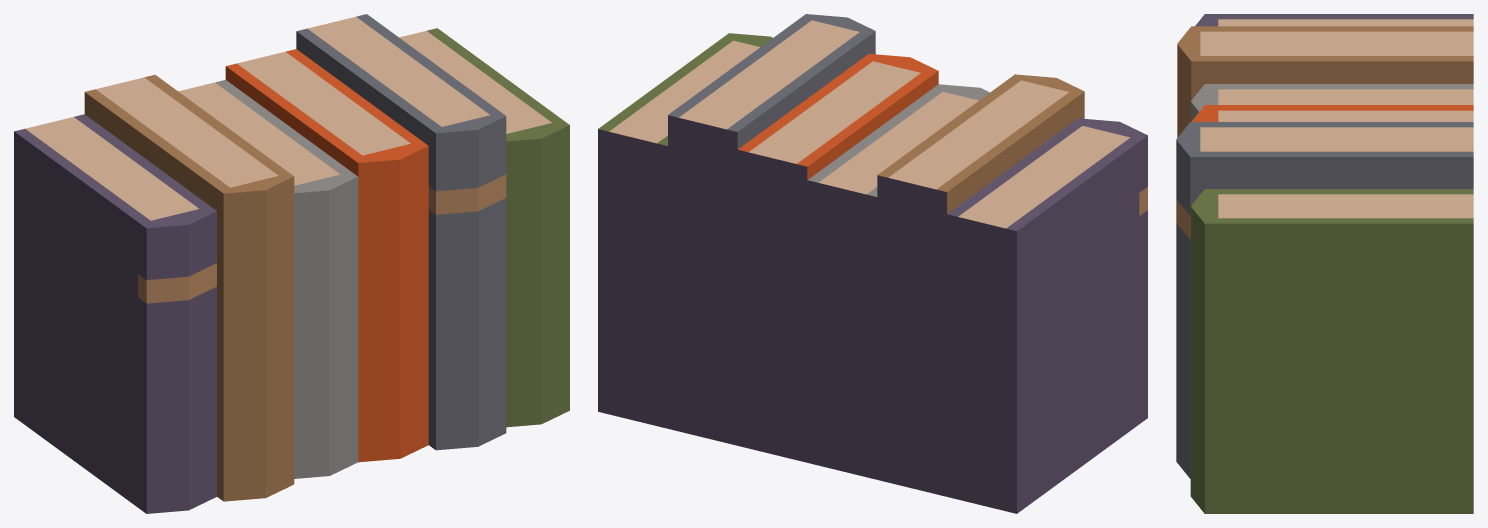
File: Book_01.glb
3 renders of one model, left to right at view 1: azimuth 30°, elevation 25°; view 2: azimuth 150°, elevation 25°; view 3: azimuth 270°, elevation 25°, orthographic. The views are drawn at different scales.
Visible parts, largest first — view 1: Book_01_LOD0; view 2: Book_01_LOD0; view 3: Book_01_LOD0.
Boxes of the visible parts, x1=… form: Book_01_LOD0: x1=14, y1=14, x2=569, y2=513; Book_01_LOD0: x1=598, y1=14, x2=1147, y2=513; Book_01_LOD0: x1=1176, y1=14, x2=1473, y2=513.
Size of what is drawn, in the model's own units: 0.4782 by 0.3422 by 0.2867.
1 material, 1 textured.
